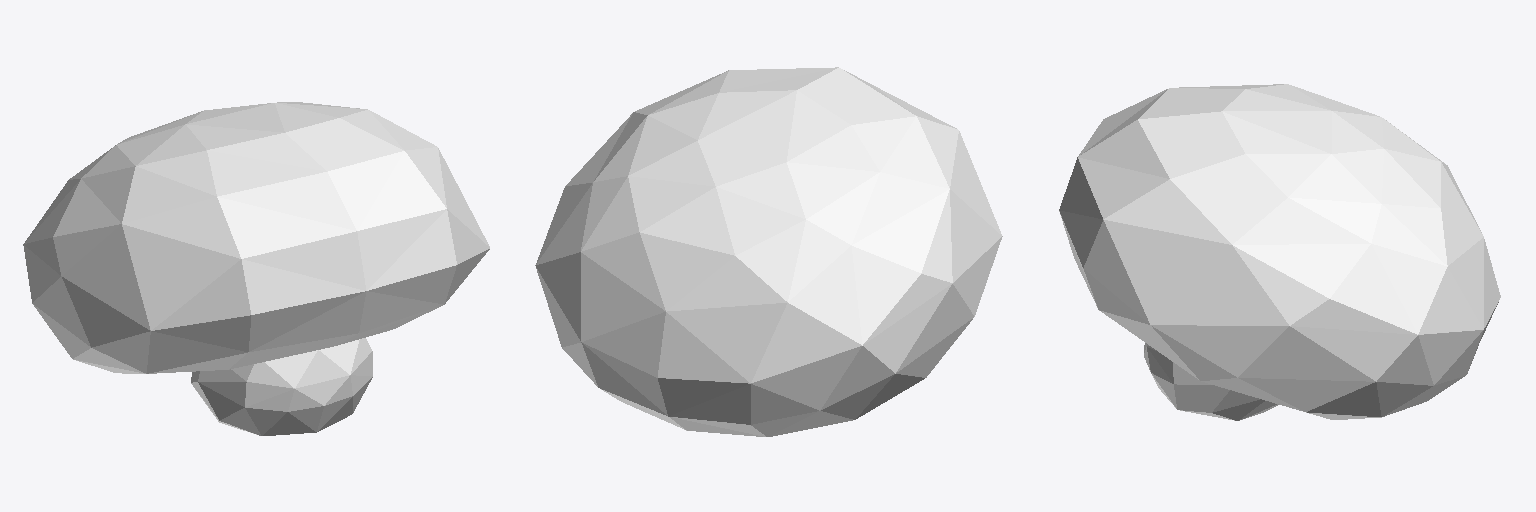
File: MegaMushroom.obj
The picture shows the model from 3 angles: view 1: azimuth 30°, elevation 25°; view 2: azimuth 150°, elevation 25°; view 3: azimuth 270°, elevation 25°; orthographic projection.
Parts seen in each view (by area): view 1: MegaMushroom; view 2: MegaMushroom; view 3: MegaMushroom.
Part boxes in pixels (x1,y1,x2,y2): MegaMushroom: (23, 102, 489, 435); MegaMushroom: (535, 67, 1002, 436); MegaMushroom: (1059, 84, 1500, 420).
Bounding box in the file's own units: 11.52 × 8.4 × 11.64.